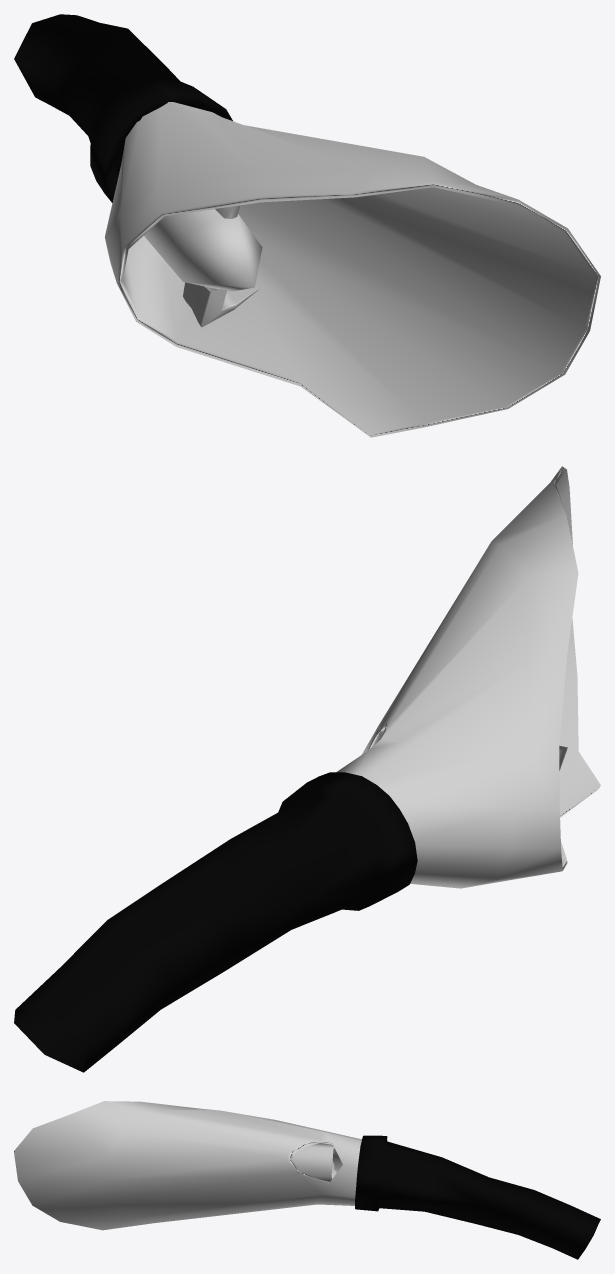
File: NeroIden2.fbx
3 renders of one model, top to bottom at view 1: azimuth 30°, elevation 25°; view 2: azimuth 150°, elevation 25°; view 3: azimuth 270°, elevation 25°, orthographic. The views are drawn at different scales.
Parts seen in each view (by area): view 1: LOD_1_Group_0_Sub_1__m000__Character_Default2, LOD_1_Group_0_Sub_2__tube; view 2: LOD_1_Group_0_Sub_1__m000__Character_Default2, LOD_1_Group_0_Sub_2__tube; view 3: LOD_1_Group_0_Sub_1__m000__Character_Default2, LOD_1_Group_0_Sub_2__tube.
Part boxes in pixels (bbox=[...]): LOD_1_Group_0_Sub_1__m000__Character_Default2: bbox=[105, 102, 600, 437]; LOD_1_Group_0_Sub_2__tube: bbox=[14, 14, 232, 202]; LOD_1_Group_0_Sub_1__m000__Character_Default2: bbox=[336, 466, 600, 888]; LOD_1_Group_0_Sub_2__tube: bbox=[14, 772, 417, 1072]; LOD_1_Group_0_Sub_1__m000__Character_Default2: bbox=[14, 1101, 361, 1230]; LOD_1_Group_0_Sub_2__tube: bbox=[355, 1135, 600, 1259].
Size of the model in its own units: 50.73 by 45.81 by 176.
